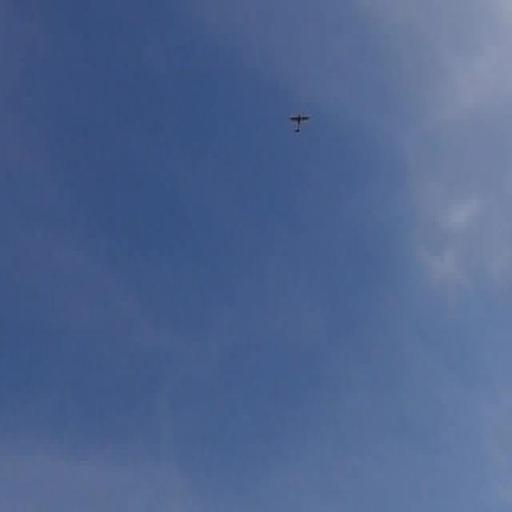uav: (285, 108, 312, 141)
